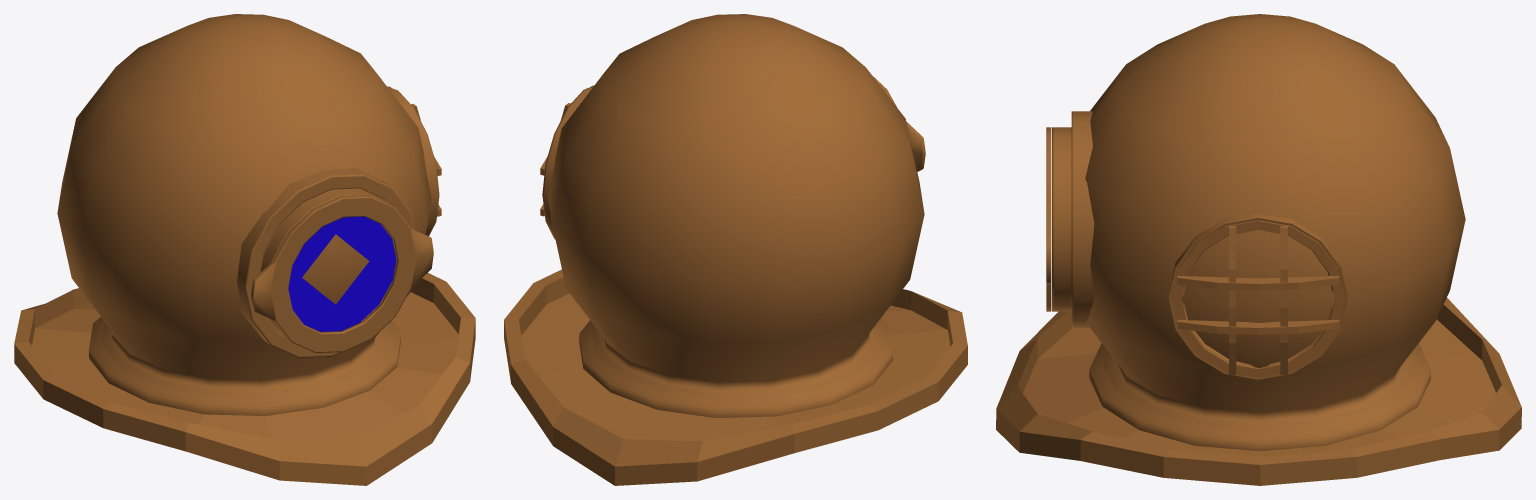
File: helmet.glb
3 renders of one model, left to right at view 1: azimuth 30°, elevation 25°; view 2: azimuth 150°, elevation 25°; view 3: azimuth 270°, elevation 25°, orthographic. The views are drawn at different scales.
Parts seen in each view (by area): view 1: 球体, 球体.001, 圆环.001, 圆环.003, 圆环.002, 圆环, 圆环.004; view 2: 球体, 球体.001, 圆环.004, 圆环.001; view 3: 球体, 球体.001, 圆环.005, 圆环.002, 平面, 圆环, 圆环.004, 平面.002, 圆环.001.
Part boxes in pixels (x1=…): 球体: x1=57, y1=14, x2=431, y2=415; 球体.001: x1=14, y1=273, x2=475, y2=485; 圆环.001: x1=251, y1=195, x2=433, y2=352; 圆环.003: x1=288, y1=216, x2=396, y2=331; 圆环.002: x1=237, y1=168, x2=414, y2=357; 圆环: x1=260, y1=188, x2=392, y2=339; 圆环.004: x1=387, y1=86, x2=439, y2=235; 球体: x1=548, y1=14, x2=924, y2=417; 球体.001: x1=504, y1=269, x2=967, y2=485; 圆环.004: x1=542, y1=86, x2=593, y2=239; 圆环.001: x1=873, y1=76, x2=925, y2=171; 球体: x1=1085, y1=14, x2=1465, y2=451; 球体.001: x1=996, y1=297, x2=1521, y2=485; 圆环.005: x1=1171, y1=220, x2=1344, y2=377; 圆环.002: x1=1071, y1=111, x2=1094, y2=327; 平面: x1=1177, y1=275, x2=1339, y2=334; 圆环: x1=1052, y1=127, x2=1071, y2=311; 圆环.004: x1=1168, y1=213, x2=1347, y2=379; 平面.002: x1=1229, y1=226, x2=1287, y2=374; 圆环.001: x1=1046, y1=127, x2=1051, y2=311.
Bounding box in the file's own units: 2.46 × 2.14 × 2.56.
